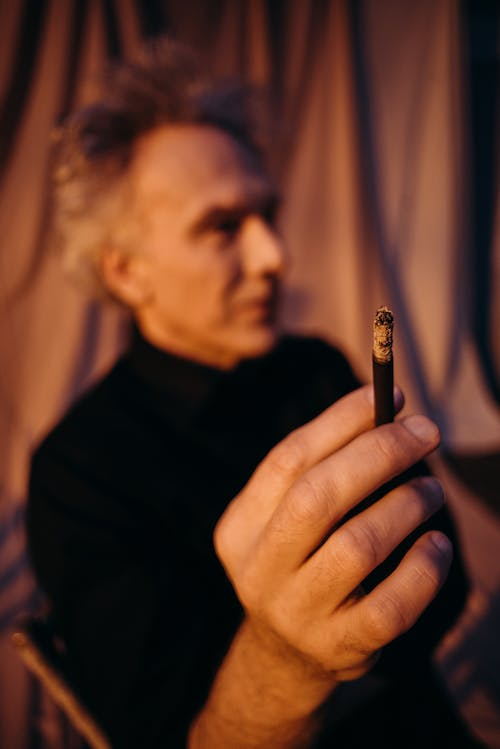cigarette: (371, 302, 397, 427)
